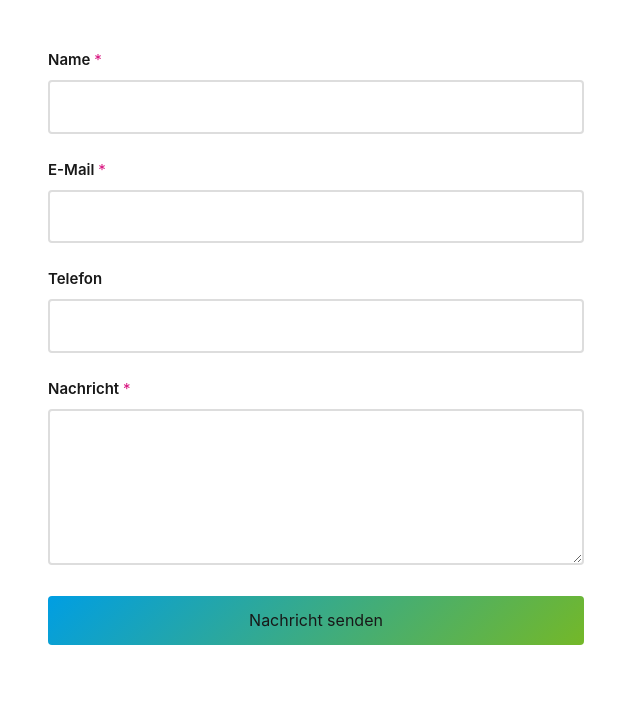
Test: ContactForm › Validierung › zeigt Fehler, wenn die E-Mail leer ist
The image size is (633, 715).
In the field with id "name": (316, 107) top-left (48, 80), bottom-right (584, 134), type "Max Mustermann"
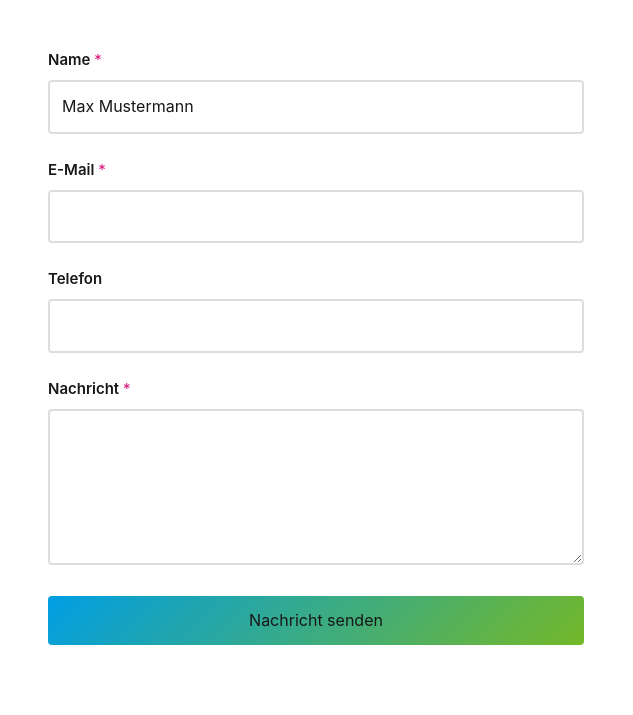
In the text box with id "message": (316, 487) top-left (48, 409), bottom-right (584, 565), type "Eine ausreichend lange Nachricht."
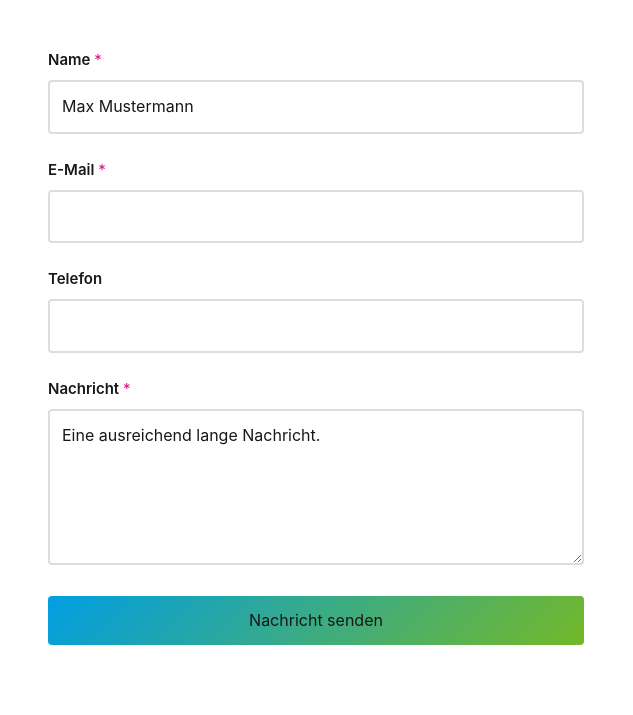
Submit the form
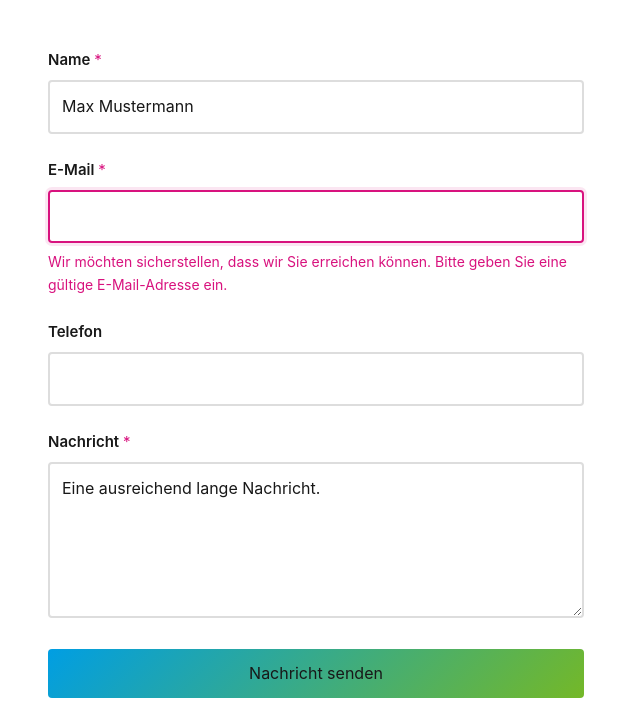
Check: the text with id "email-error" is shown, box top-left (48, 251), bottom-right (584, 296)
